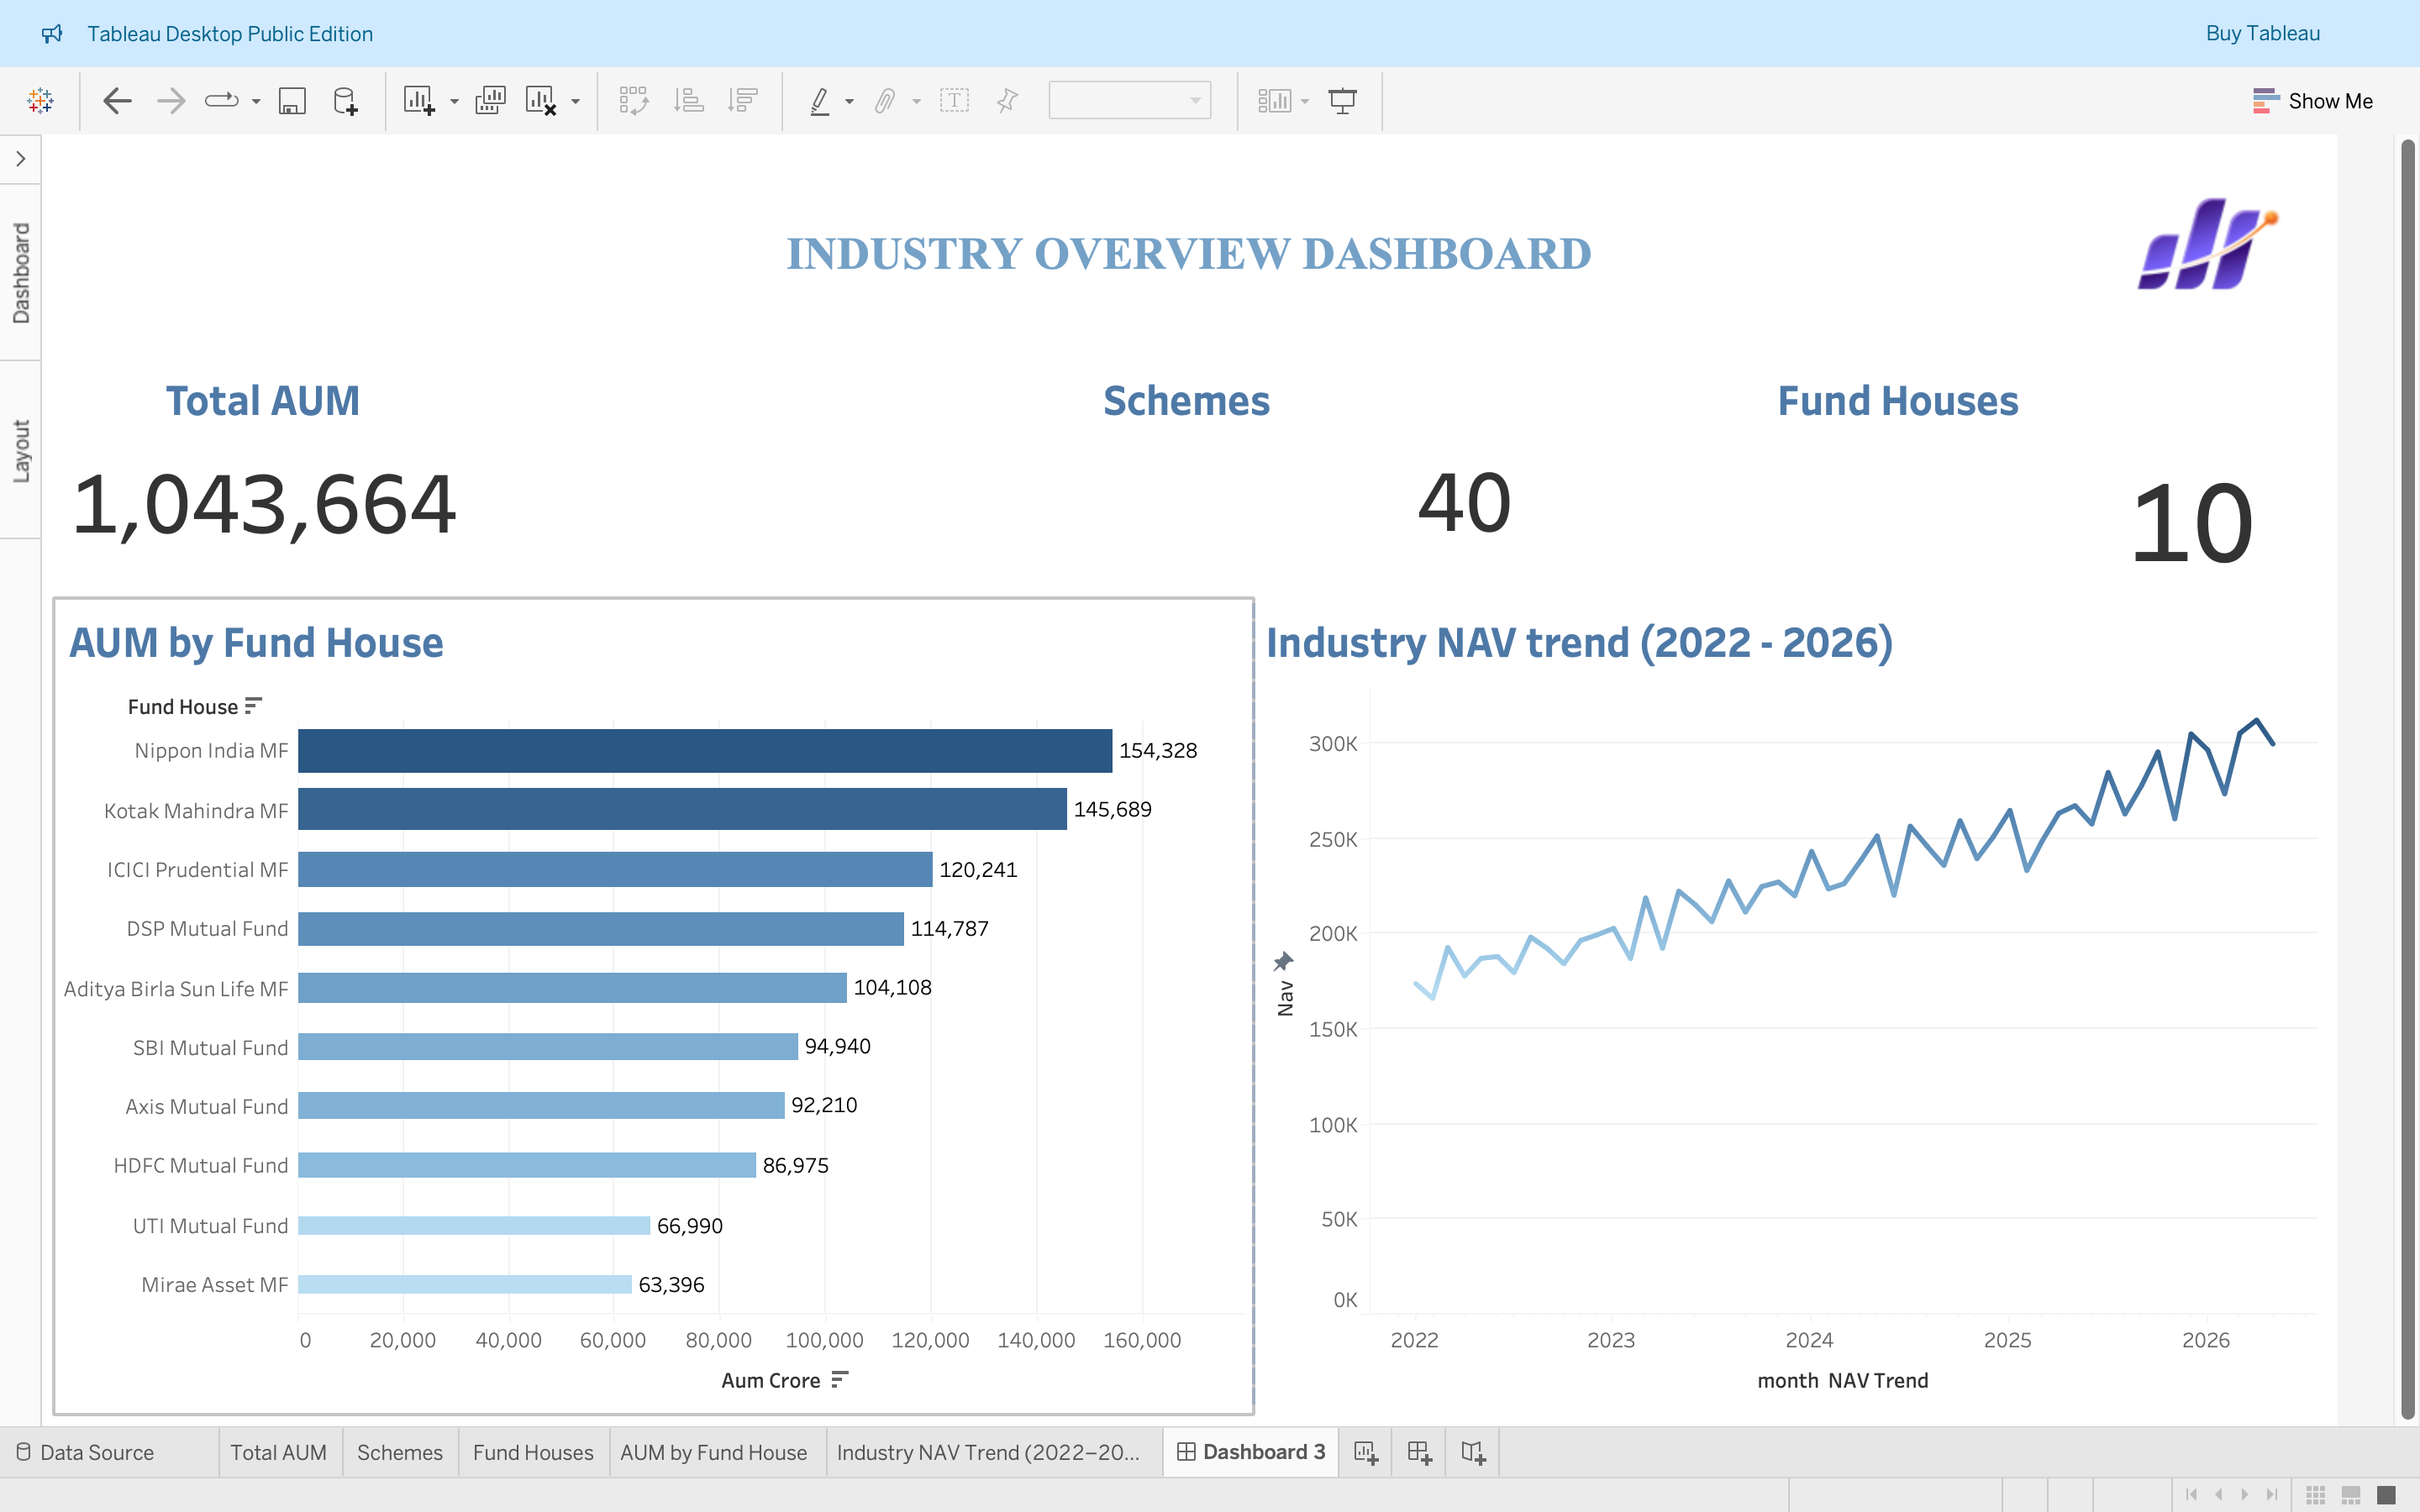

This screenshot's page, from the dashboard's own definition file:
{"tool":"tableau","page":{"name":"Dashboard 3","canvas":[1000,1000],"units":"permille","ordinal":0},"visuals":[{"type":"title","box":[5.9,10.4,988.3,162.6]},{"type":"image","param":"/Users/krithikmenon/Downloads/bluestock_-removebg-preview.png","box":[894.6,13,98.1,144.3]},{"type":"worksheet","title":"Total AUM","mark":"Automatic","box":[5.9,173,344.8,187.3]},{"type":"worksheet","title":" Schemes","mark":"Automatic","box":[350.7,173,296.5,187.3]},{"type":"worksheet","title":" Fund Houses","mark":"Automatic","box":[647.2,173,323.6,187.3]},{"type":"worksheet","title":"AUM by Fund House","mark":"Automatic","rows":["fund_house"],"cols":["aum_crore"],"box":[5.9,360.2,521.2,629.4]},{"type":"worksheet","title":"Industry NAV Trend (2022–2026)","mark":"Automatic","rows":["nav"],"cols":["date"],"box":[527.1,360.2,467.1,629.4]}]}

Visuals, with their boxes on the dashboard's canvas, which has no fixed pixel size, in thousandths of its width and height (x1, y1, x2, y2). These are canvas units, not pixel positions in the 2420x1512 screenshot, which may show the page scaled, cropped or inside an application window:
title: BBox(6, 10, 994, 173)
image: BBox(895, 13, 993, 157)
"Total AUM" worksheet: BBox(6, 173, 351, 360)
" Schemes" worksheet: BBox(351, 173, 647, 360)
" Fund Houses" worksheet: BBox(647, 173, 971, 360)
"AUM by Fund House" worksheet: BBox(6, 360, 527, 990)
"Industry NAV Trend (2022–2026)" worksheet: BBox(527, 360, 994, 990)
